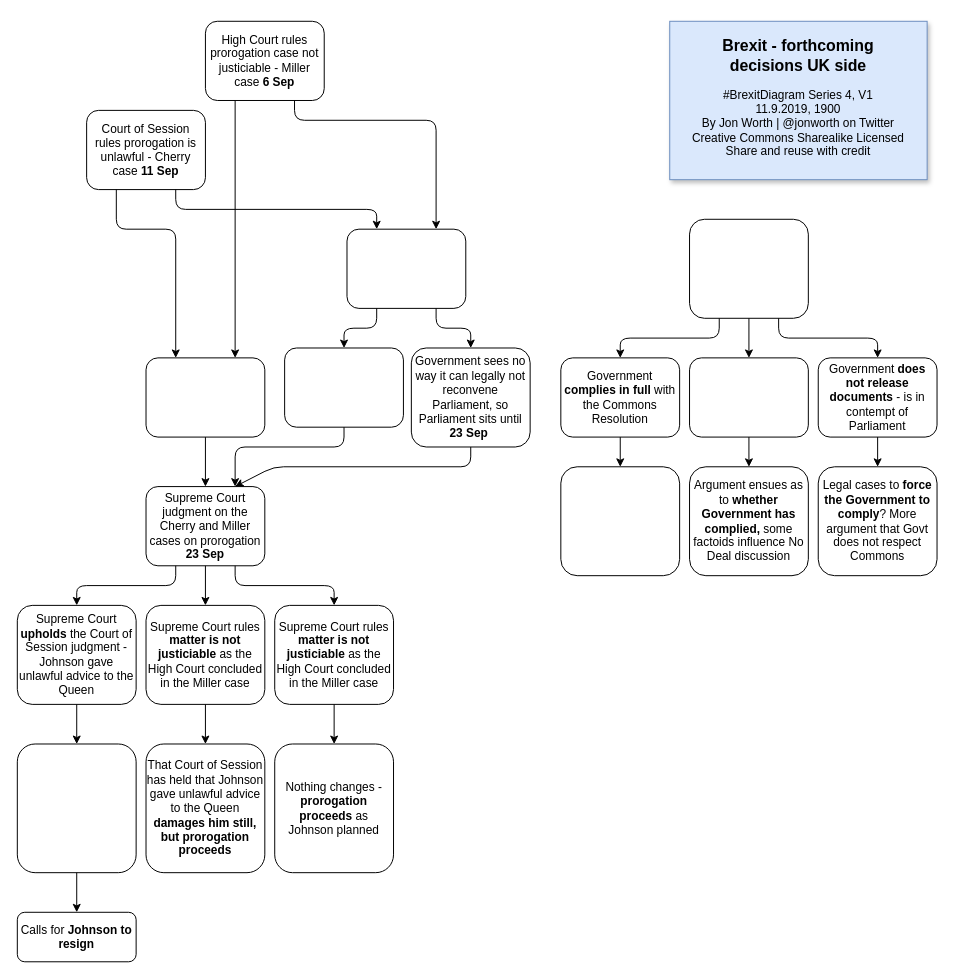
This 954x979 diagram has some shape labels left out. Each missing label, with the centre of its shape:
"Dangers of No Deal laid bare , opposition to No Deal grows further" goes at (620,521).
"Deadline for Government to release Yellowhammer documents 2300, 11 Sep" goes at (748,268).
"Government releases heavily redacted Yellowhammer documents" goes at (748,397).
"Government sits it out and Houses of Parliament do not reconvene" goes at (343,387).
"Miller writes to Government, demanding both Houses of Parliament resume asap" goes at (406,268).
"Prorogation ruled unlawful , so Parliament has to sit again" goes at (76,808).
"Supreme Court hears Cherry and Miller cases on prorogation 17 Sep" goes at (205,397).
